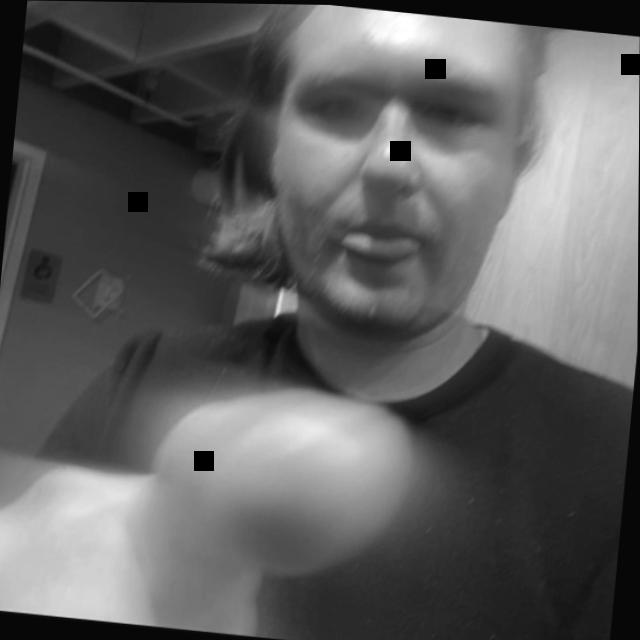Mask: (174, 2, 564, 387)
